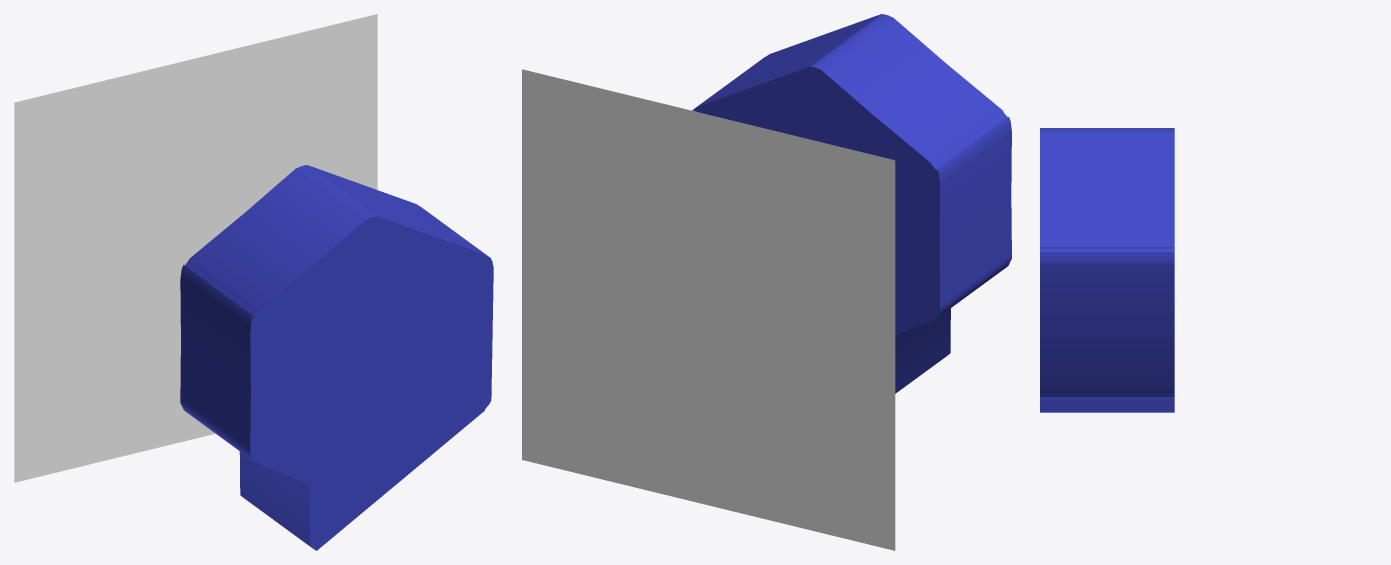
File: dialogflow.fbx
3 views of the same model, side by side, from view 1: azimuth 30°, elevation 25°; view 2: azimuth 150°, elevation 25°; view 3: azimuth 270°, elevation 25° (orthographic). The views are drawn at different scales.
Parts seen in each view (by area): view 1: root (×3); view 2: root (×3); view 3: root (×2).
Boxes of the visible parts, x1,y1,x2,y2 form: root (×3): (14,14,493,550); root (×3): (522,14,1011,550); root (×2): (1040,128,1174,412).
Bounding box in the file's own units: 0.3 × 0.3 × 0.25.
3 materials, 1 textured.
